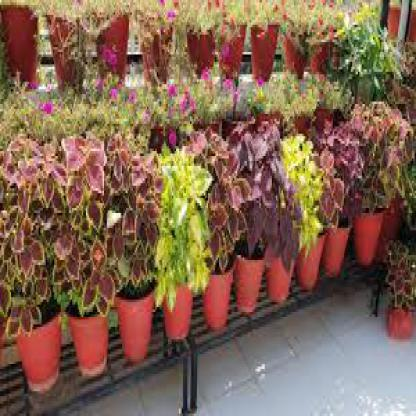Bunga Coleus: (14, 142, 150, 291), (159, 142, 202, 276), (206, 132, 240, 249), (249, 120, 284, 226), (357, 117, 399, 199), (291, 113, 316, 237), (324, 125, 351, 226), (394, 229, 416, 335)
